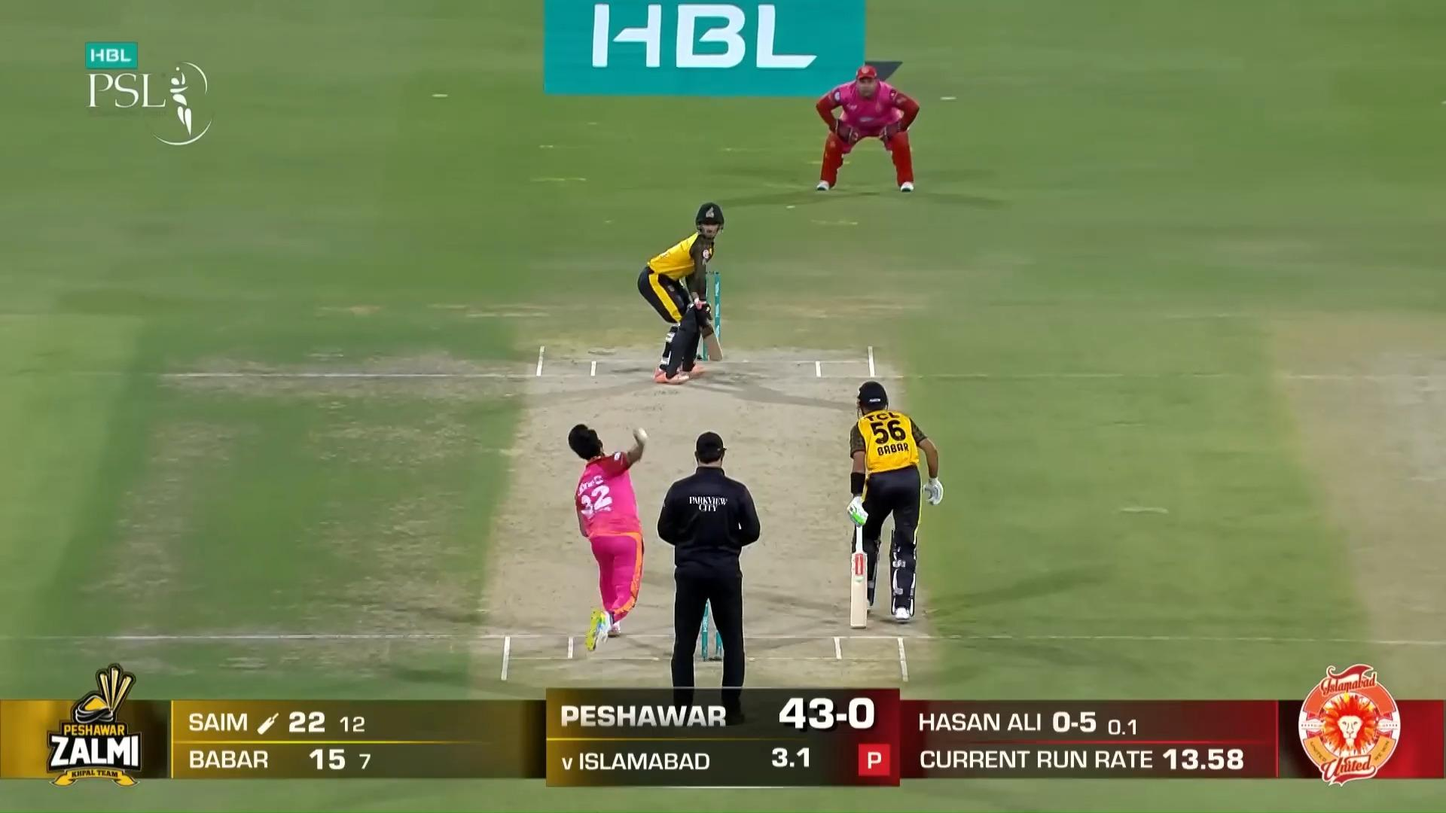batsman: (637, 202, 725, 385)
